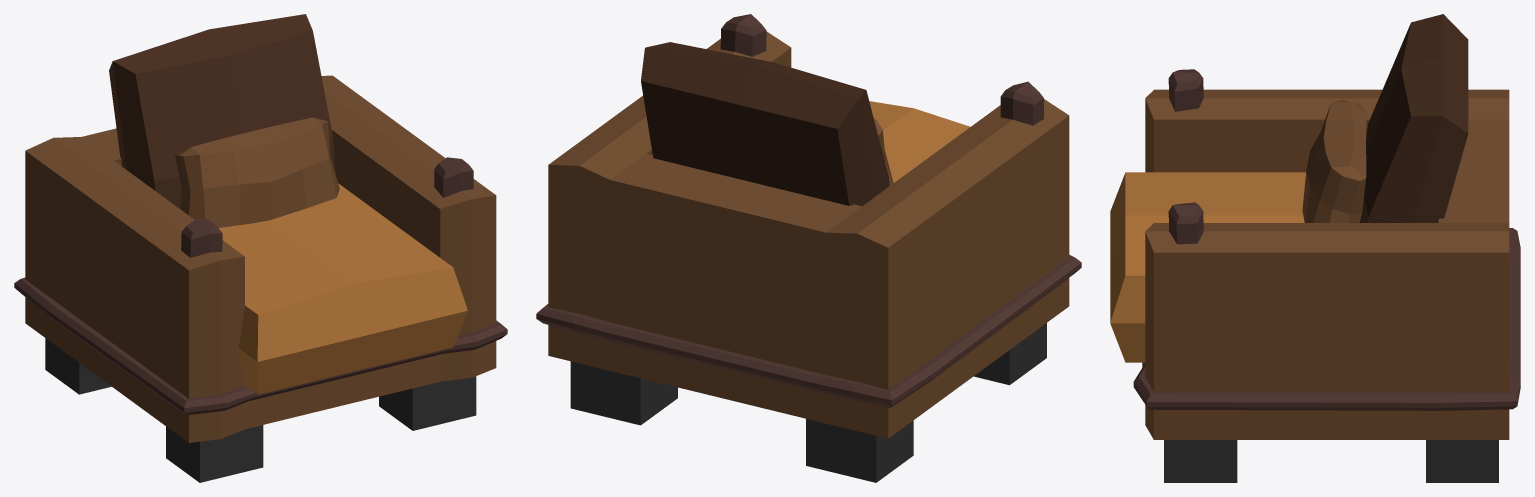
Rendered from Prop_Sofa_02_C.fbx.
3 views of the same model, side by side, from view 1: azimuth 30°, elevation 25°; view 2: azimuth 150°, elevation 25°; view 3: azimuth 270°, elevation 25° (orthographic). The views are drawn at different scales.
Parts seen in each view (by area): view 1: Prop_Sofa_02_C; view 2: Prop_Sofa_02_C; view 3: Prop_Sofa_02_C.
Part boxes in pixels (bbox=[...]): Prop_Sofa_02_C: bbox=[14, 14, 507, 482]; Prop_Sofa_02_C: bbox=[536, 14, 1081, 482]; Prop_Sofa_02_C: bbox=[1110, 14, 1520, 482].
Size of the model in its own units: 100 by 95 by 100.
